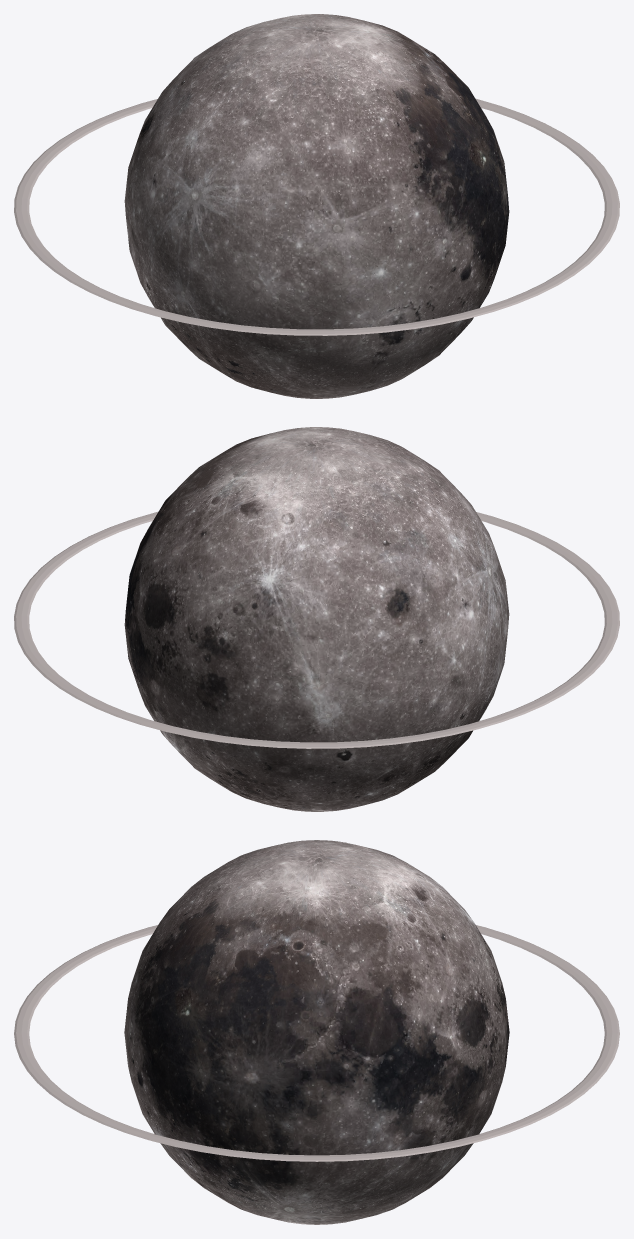
File: moon.obj
3 views of the same model, one above another, from view 1: azimuth 30°, elevation 25°; view 2: azimuth 150°, elevation 25°; view 3: azimuth 270°, elevation 25° (orthographic).
Parts seen in each view (by area): view 1: Moon, Circle.001; view 2: Moon, Circle.001; view 3: Moon, Circle.001.
Boxes of the visible parts, x1,y1,x2,y2 form: Moon: [124, 14, 509, 398]; Circle.001: [14, 99, 619, 335]; Moon: [124, 427, 509, 811]; Circle.001: [14, 512, 619, 748]; Moon: [124, 840, 509, 1224]; Circle.001: [14, 925, 619, 1161].
Size of the model in its own units: 31.46 by 20 by 31.46.
Materials: 1 (1 with a texture image).
